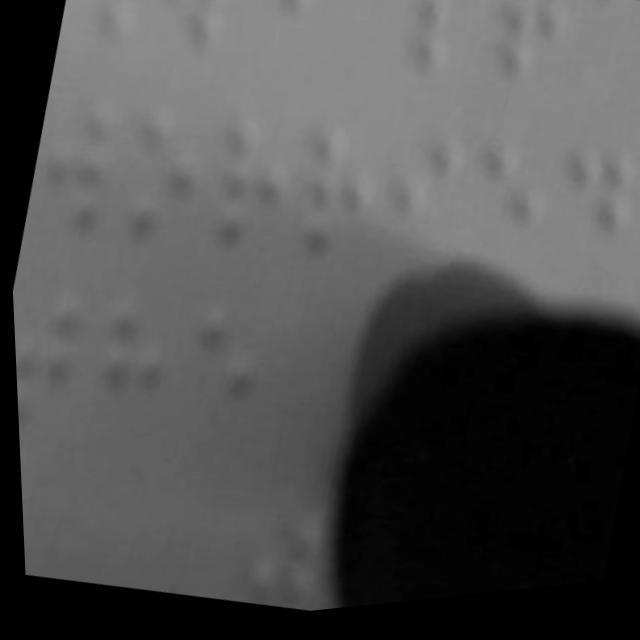braiile: (152, 291, 280, 485), (63, 288, 185, 483), (265, 109, 392, 294), (183, 102, 307, 286), (90, 94, 215, 272), (450, 126, 568, 314), (10, 95, 129, 281), (360, 123, 473, 297), (9, 265, 99, 460), (381, 0, 490, 112), (211, 0, 320, 107), (130, 0, 241, 81)
